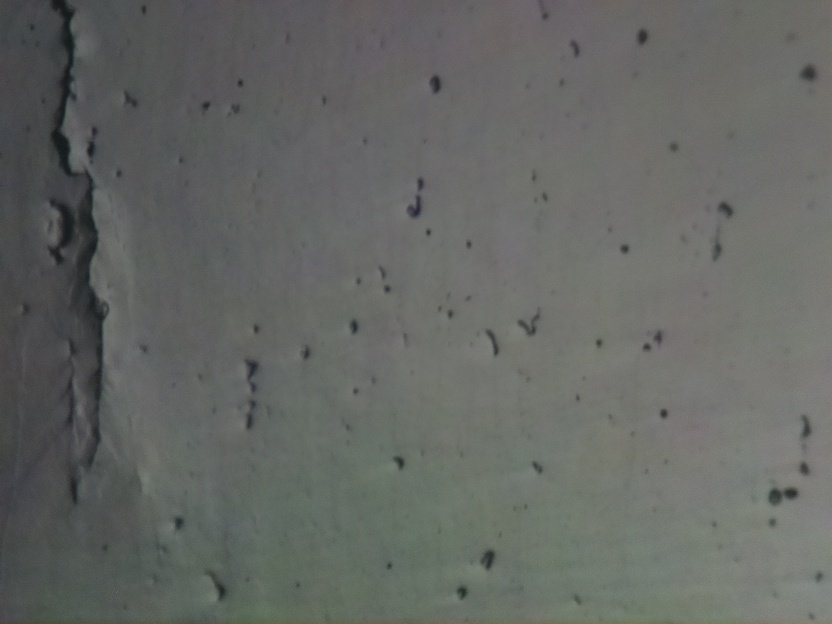crack: (46, 0, 105, 466)
